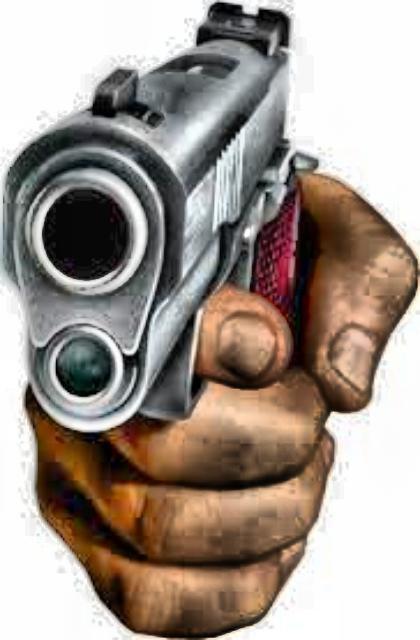pistol: (0, 2, 314, 444)
